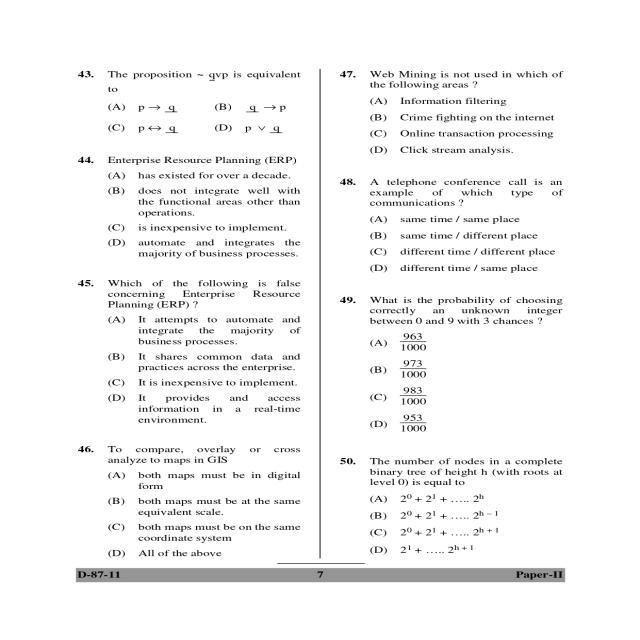Answer_Block: (74, 313, 314, 427), (326, 330, 568, 438), (74, 168, 316, 264), (74, 468, 314, 559), (326, 492, 570, 560), (326, 93, 570, 160), (327, 210, 568, 274), (74, 96, 314, 146)
Question_Answer_Block: (74, 272, 314, 428), (326, 292, 568, 438), (74, 442, 314, 559), (74, 153, 316, 264), (326, 452, 570, 560), (327, 170, 568, 275), (326, 67, 570, 160), (74, 67, 314, 146)
Question_Block: (326, 452, 570, 492), (74, 273, 314, 313), (326, 291, 568, 330), (327, 170, 568, 208), (74, 67, 314, 95), (326, 68, 570, 94), (74, 442, 314, 468), (74, 154, 316, 168)
Question_Paper_Area: (327, 67, 569, 560), (74, 67, 316, 559)
